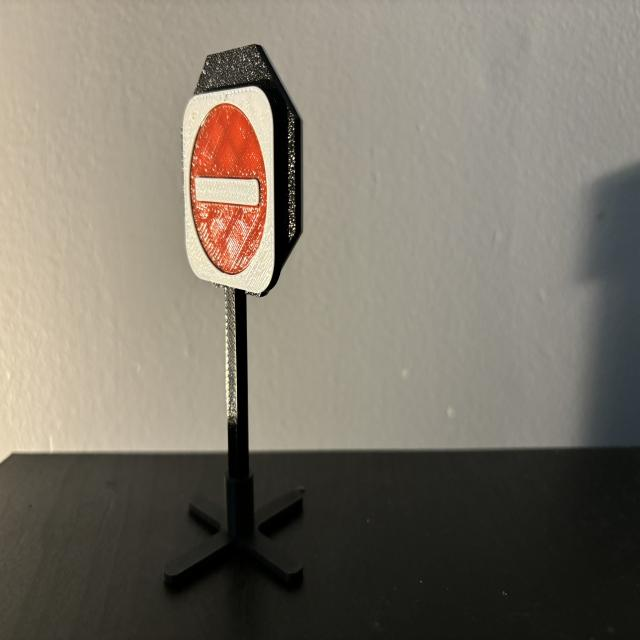sign_noentry: (184, 87, 276, 293)
